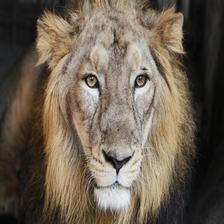Lion: (22, 0, 196, 224)
